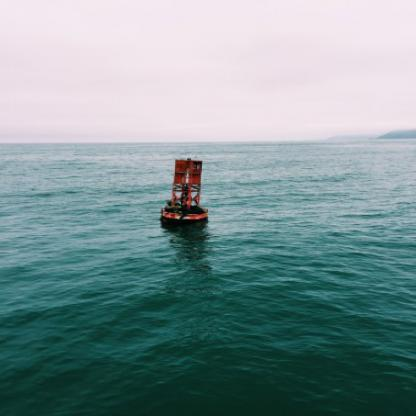buoy: (154, 150, 212, 230)
